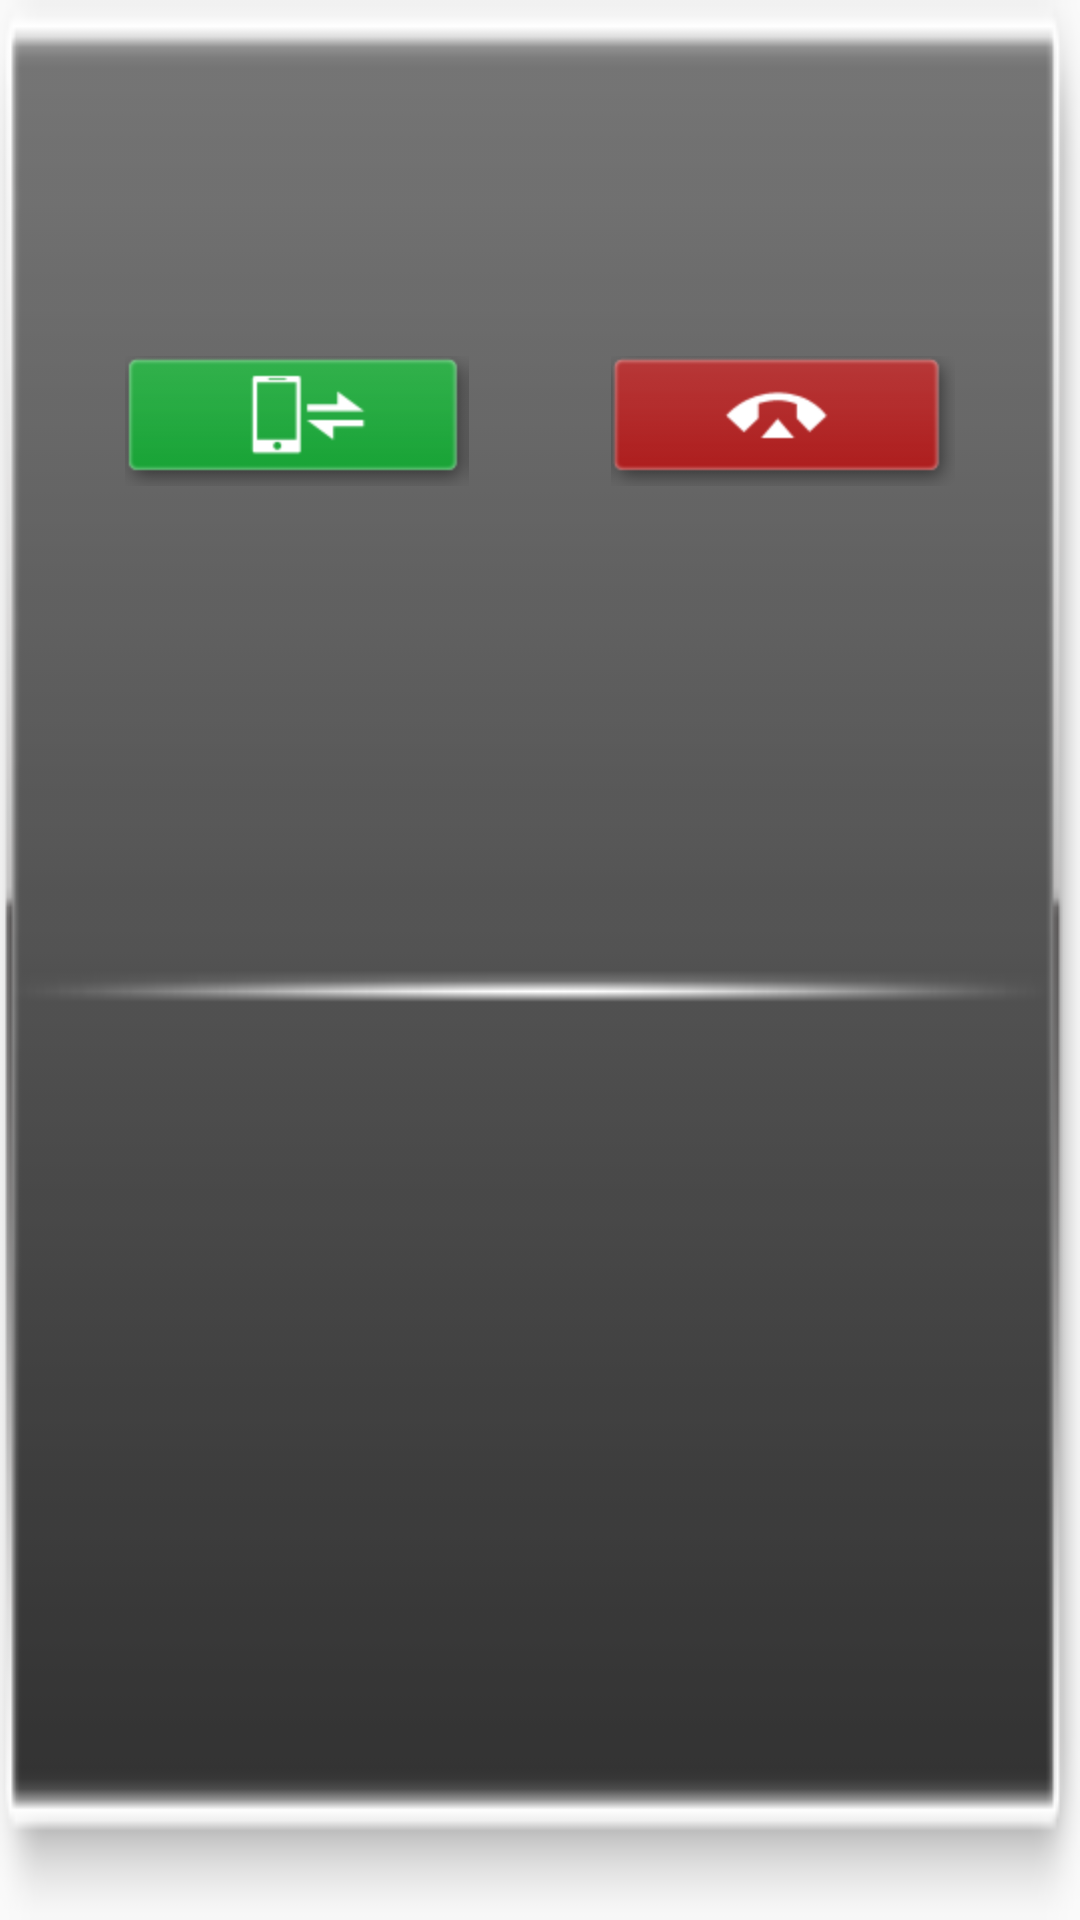

Locate icon controls on the screen. Image size 1080x1920, boxes as BBox(x1, y1, x2, y2).
little guaduan: BBox(614, 359, 941, 475)
little qieshengdao: BBox(128, 359, 459, 475)
